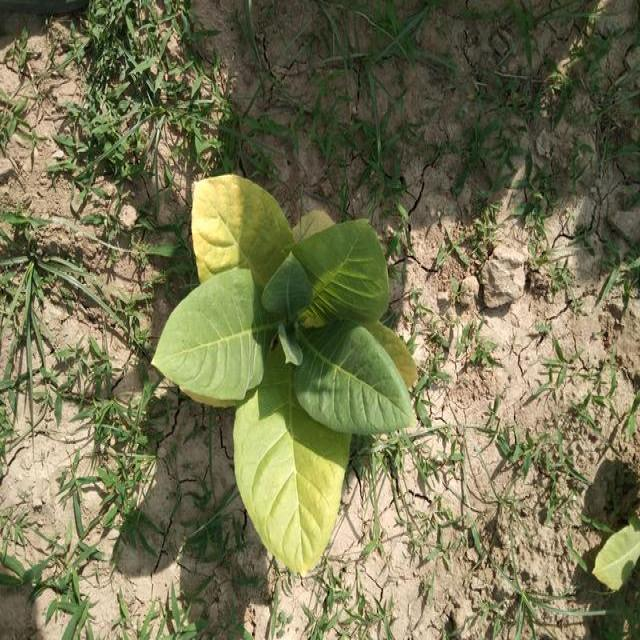crop: (161, 162, 420, 578)
